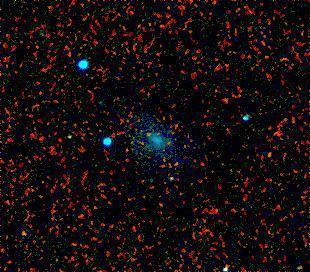star: (153, 163, 183, 193)
